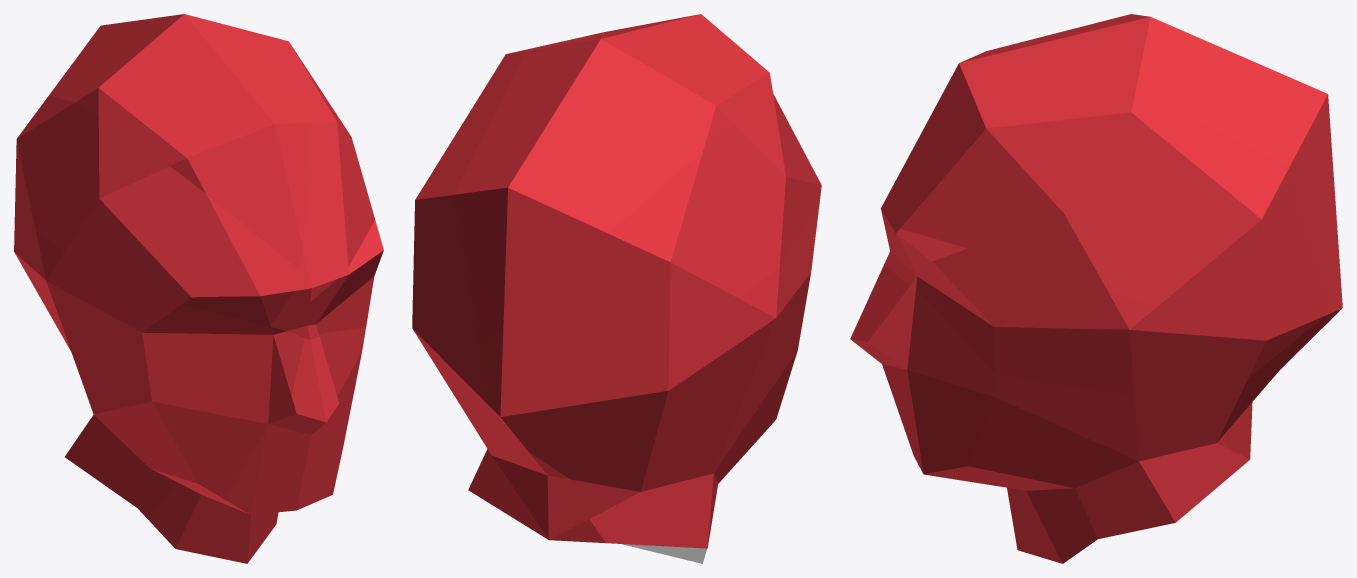
The model's file is MazeLow_Head.fbx.
3 renders of one model, left to right at view 1: azimuth 30°, elevation 25°; view 2: azimuth 150°, elevation 25°; view 3: azimuth 270°, elevation 25°, orthographic. The views are drawn at different scales.
Parts seen in each view (by area): view 1: head.005, head.003, head.002, head, head.001, head.004; view 2: head.003, head.005, head.002, head.001, head; view 3: head.001, head, head.004, head.003, head.002.
Part boxes in pixels (x1,y1,x2,y2): head.005: (14,209,304,517); head.003: (49,14,311,269); head.002: (15,95,298,326); head: (147,326,365,563); head.001: (267,35,374,318); head.004: (270,220,383,339); head.003: (453,14,772,349); head.005: (483,203,819,550); head.002: (480,93,821,398); head.001: (412,25,641,397); head: (442,376,706,563); head.001: (881,92,1331,347); head: (850,264,1327,563); head.004: (884,224,1285,396); head.003: (900,14,1336,272); head.002: (1322,225,1341,304).
Bounding box in the file's own units: 17.32 × 28.12 × 23.54.
